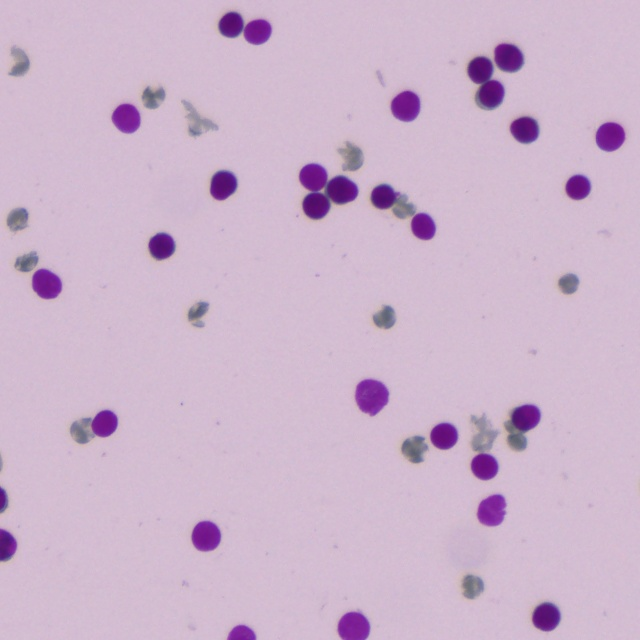non_viable: (402, 437, 426, 461), (187, 301, 208, 326), (71, 419, 93, 442), (462, 574, 483, 598), (373, 305, 394, 328), (7, 208, 28, 230), (558, 274, 578, 293), (507, 426, 524, 448), (143, 89, 163, 107), (16, 254, 36, 270)
viable: (355, 379, 388, 414), (477, 494, 505, 525), (391, 91, 419, 120), (192, 521, 220, 550), (338, 612, 369, 638), (596, 122, 624, 150), (326, 177, 356, 202), (33, 270, 60, 297), (532, 603, 559, 630), (510, 116, 538, 142), (210, 171, 236, 199), (149, 233, 174, 259), (300, 165, 325, 191), (113, 105, 138, 131), (495, 45, 521, 70), (477, 81, 502, 106), (512, 406, 538, 429), (472, 454, 496, 478), (566, 175, 590, 199), (92, 411, 116, 435), (304, 193, 328, 217), (431, 424, 456, 447), (469, 58, 491, 84), (245, 20, 269, 42), (412, 214, 434, 238), (372, 185, 396, 207), (0, 529, 16, 560), (220, 13, 242, 35), (228, 625, 255, 639), (0, 488, 7, 512)
